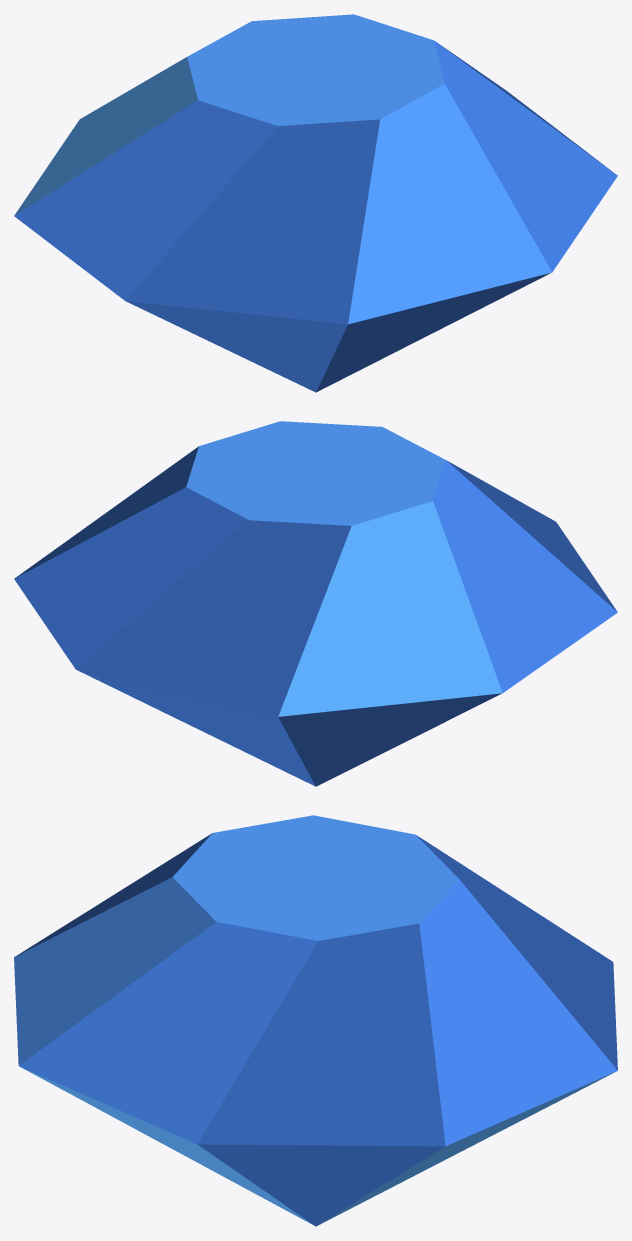
Rendered from Sapphire.glb.
The picture shows the model from 3 angles, top to bottom: view 1: azimuth 30°, elevation 25°; view 2: azimuth 150°, elevation 25°; view 3: azimuth 270°, elevation 25°; orthographic projection. The views are drawn at different scales.
Parts seen in each view (by area): view 1: Sapphire_gem; view 2: Sapphire_gem; view 3: Sapphire_gem.
Part boxes in pixels (<box>): Sapphire_gem: <box>14,14,617,392</box>; Sapphire_gem: <box>14,421,617,786</box>; Sapphire_gem: <box>14,815,617,1226</box>.
Size of the model in its own units: 0.9608 by 0.59 by 0.9269.
